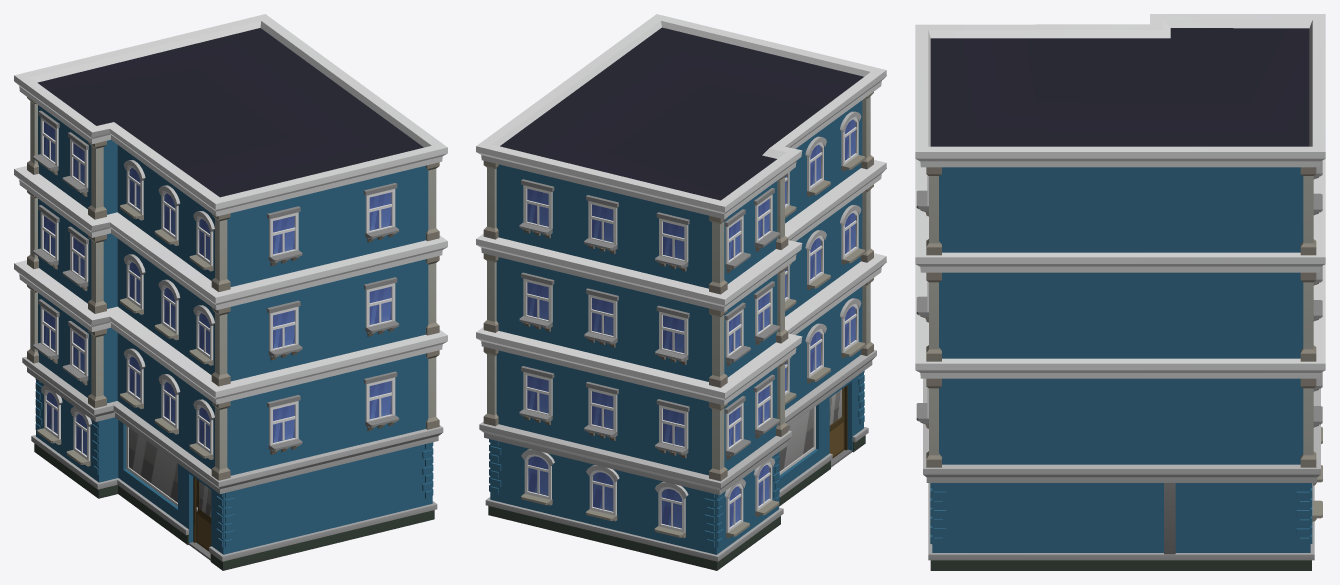
File: Building_1_4_O.glb
The picture shows the model from 3 angles, left to right: view 1: azimuth 30°, elevation 25°; view 2: azimuth 150°, elevation 25°; view 3: azimuth 270°, elevation 25°; orthographic projection. The views are drawn at different scales.
Parts seen in each view (by area): view 1: Building_1_4_O; view 2: Building_1_4_O; view 3: Building_1_4_O.
Part boxes in pixels (x1,y1,x2,y2): Building_1_4_O: (14,14,447,570); Building_1_4_O: (476,14,886,570); Building_1_4_O: (915,14,1325,570).
Bounding box in the file's own units: 8.41 × 12.01 × 10.57.
3 materials, 3 textured.
